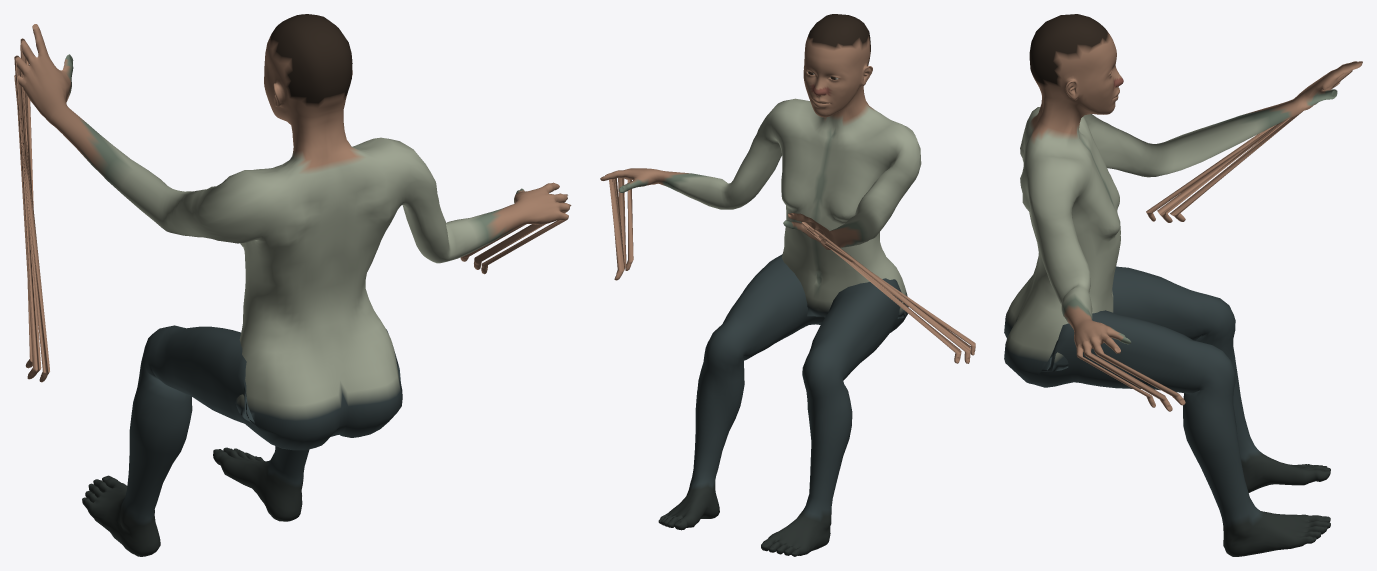
The model's file is conductor.glb.
3 renders of one model, left to right at view 1: azimuth 30°, elevation 25°; view 2: azimuth 150°, elevation 25°; view 3: azimuth 270°, elevation 25°, orthographic. The views are drawn at different scales.
Visible parts, largest first — view 1: Conductor; view 2: Conductor; view 3: Conductor.
Part boxes in pixels (bbox=[...]): Conductor: bbox=[14, 14, 571, 556]; Conductor: bbox=[600, 14, 975, 556]; Conductor: bbox=[1004, 14, 1362, 556].
Bounding box in the file's own units: 1.27 × 1.42 × 0.9106.
